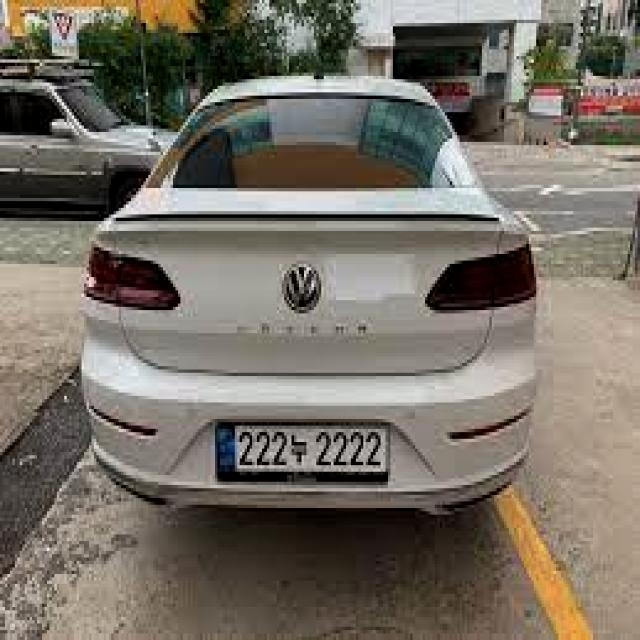car: (78, 67, 550, 521)
illegal_plate: (216, 418, 391, 486)
